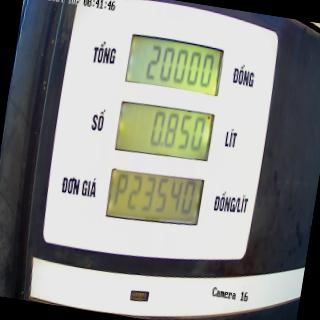screen: (100, 27, 228, 237)
